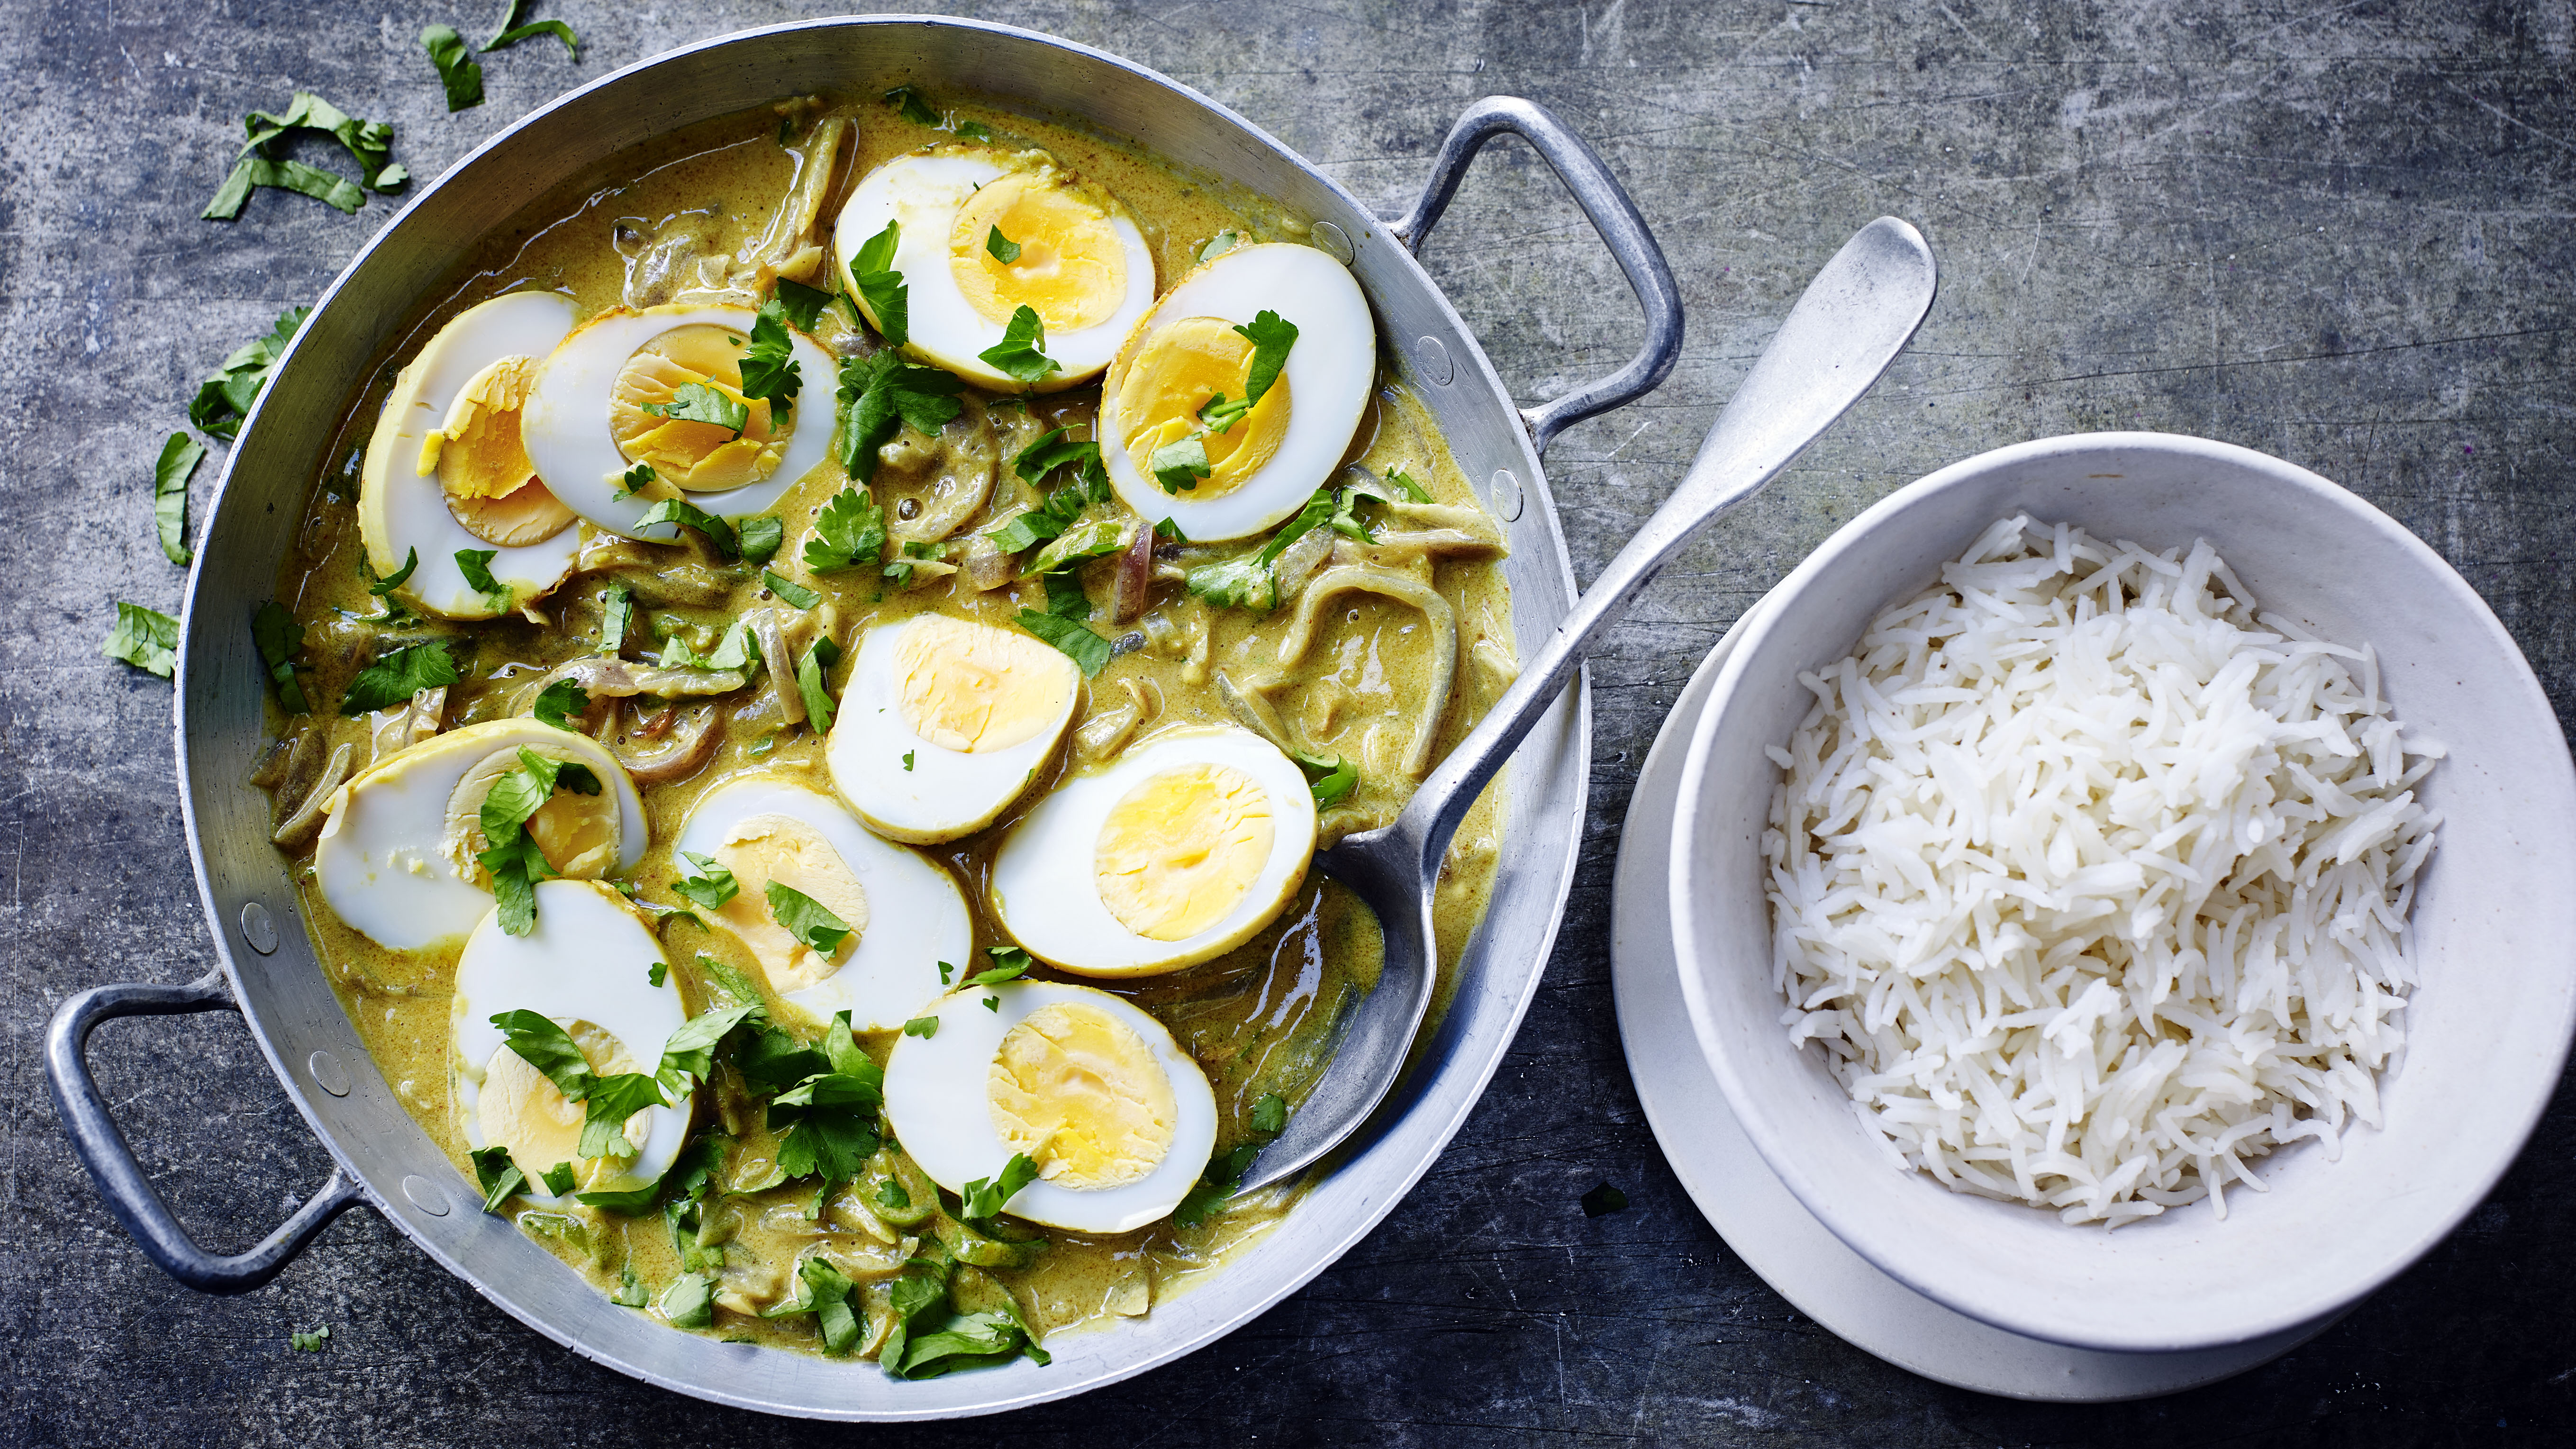curry: (426, 209, 1445, 1260)
egg: (826, 129, 1198, 398), (757, 591, 1129, 860), (961, 708, 1332, 977), (648, 741, 1019, 1010), (288, 709, 660, 978), (520, 285, 892, 554), (881, 961, 1253, 1228), (419, 863, 686, 1208), (322, 272, 589, 616)
rice: (1891, 635, 2385, 1100)
